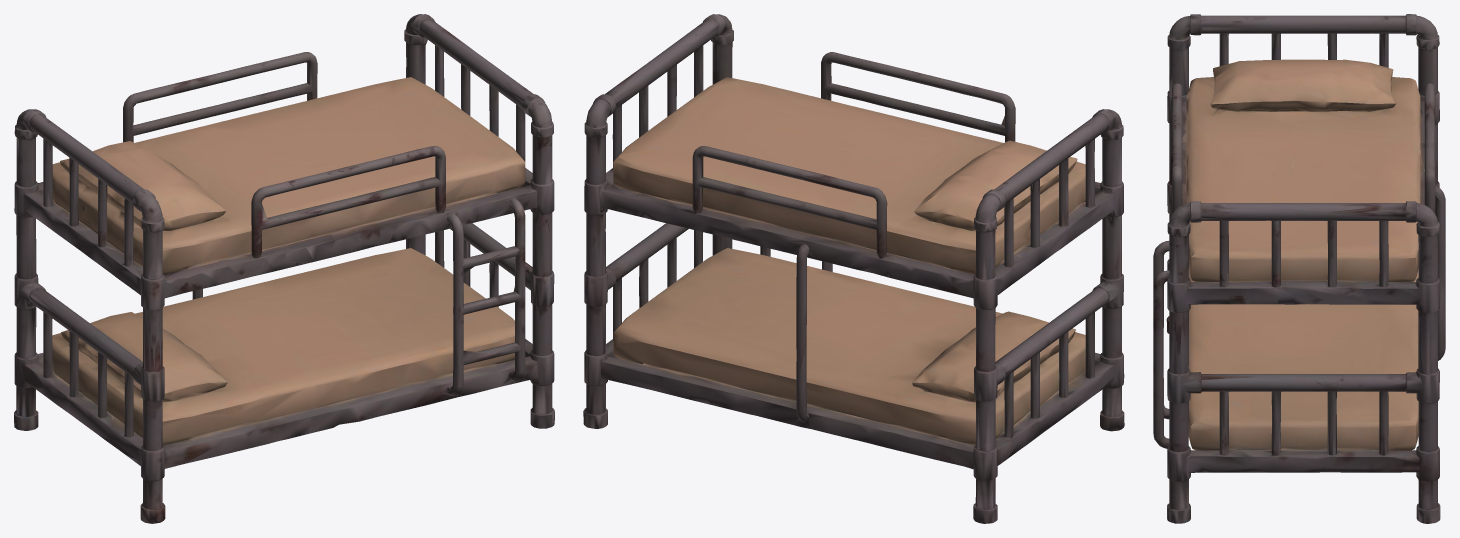
File: bunk_bed_metallicheskaya_idle.glb
The picture shows the model from 3 angles, left to right: view 1: azimuth 30°, elevation 25°; view 2: azimuth 150°, elevation 25°; view 3: azimuth 270°, elevation 25°; orthographic projection.
Parts seen in each view (by area): view 1: tripo_node_533dc25d-d8b6-4d5e-9c56-d00da07113f3; view 2: tripo_node_533dc25d-d8b6-4d5e-9c56-d00da07113f3; view 3: tripo_node_533dc25d-d8b6-4d5e-9c56-d00da07113f3.
Boxes of the visible parts, box(x1,y1,x2,y2) form: tripo_node_533dc25d-d8b6-4d5e-9c56-d00da07113f3: box(14, 14, 554, 523); tripo_node_533dc25d-d8b6-4d5e-9c56-d00da07113f3: box(583, 14, 1124, 523); tripo_node_533dc25d-d8b6-4d5e-9c56-d00da07113f3: box(1153, 14, 1445, 523).
Size of the model in its own units: 2 by 1.49 by 1.25.
1 material, 1 textured.
